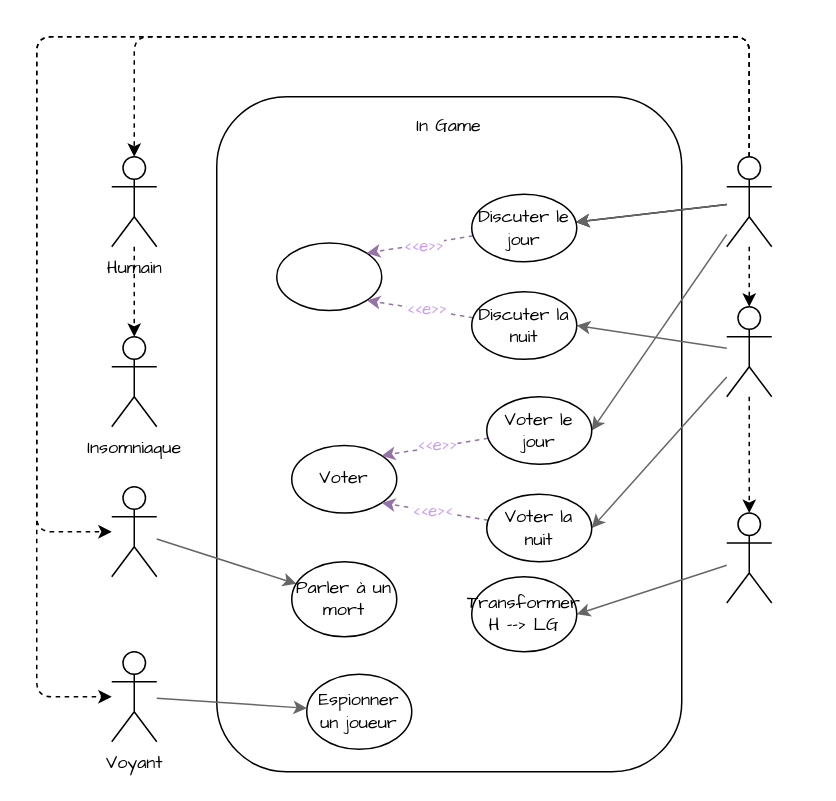
This 836x801 diagram has some shape labels left out. Here are the shapes that lost their labels. From the top down, the box of each, then its label:
(725, 155, 772, 247): Villageois
(275, 242, 382, 310): Discuter
(725, 305, 772, 397): Loup-garou
(110, 485, 157, 577): Spirit
(725, 512, 772, 603): Contaminateur
